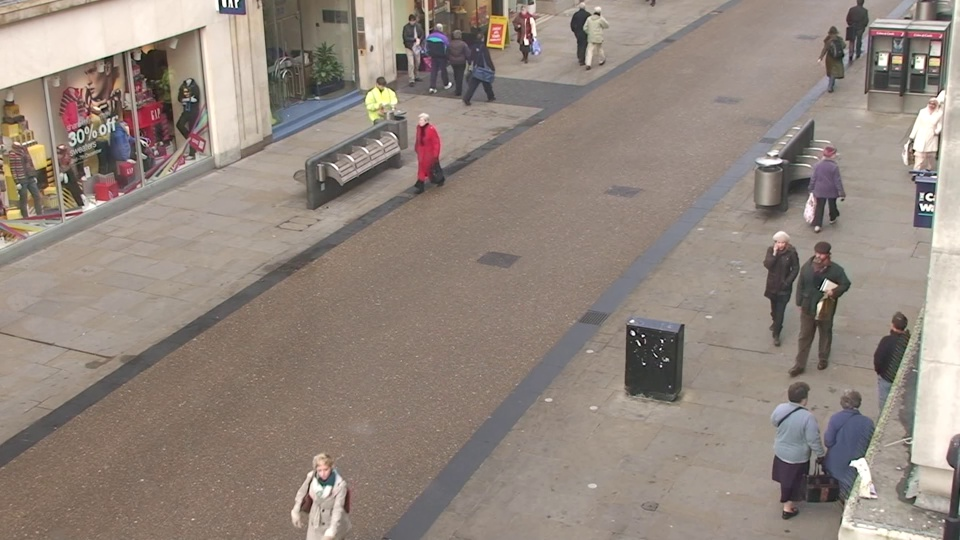pedestrian: (815, 377, 878, 540), (763, 372, 822, 536), (864, 304, 924, 453), (297, 442, 362, 540), (794, 237, 842, 366), (756, 226, 802, 352), (906, 93, 951, 187), (805, 140, 845, 243), (408, 108, 441, 202), (367, 74, 397, 158), (814, 23, 845, 97), (444, 28, 470, 98), (468, 31, 493, 102), (427, 20, 452, 88), (402, 13, 426, 79), (513, 3, 536, 68), (587, 3, 609, 68)
